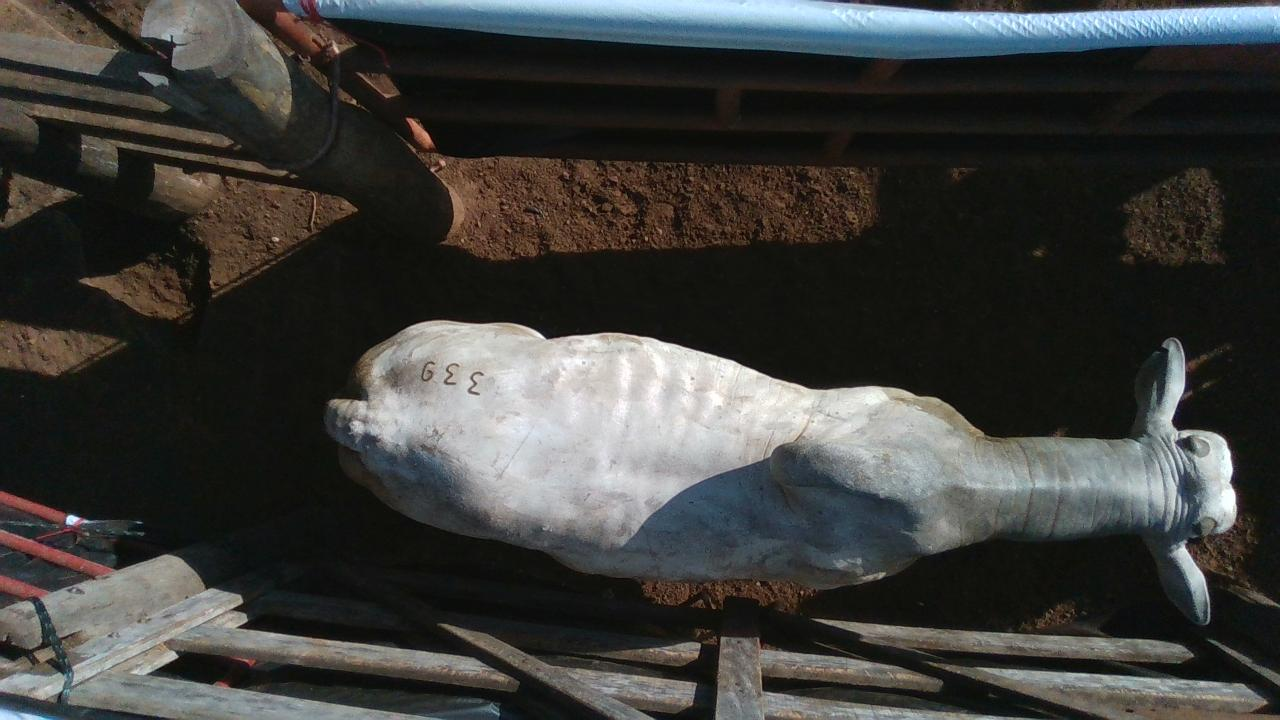cattle: (322, 317, 1239, 626)
